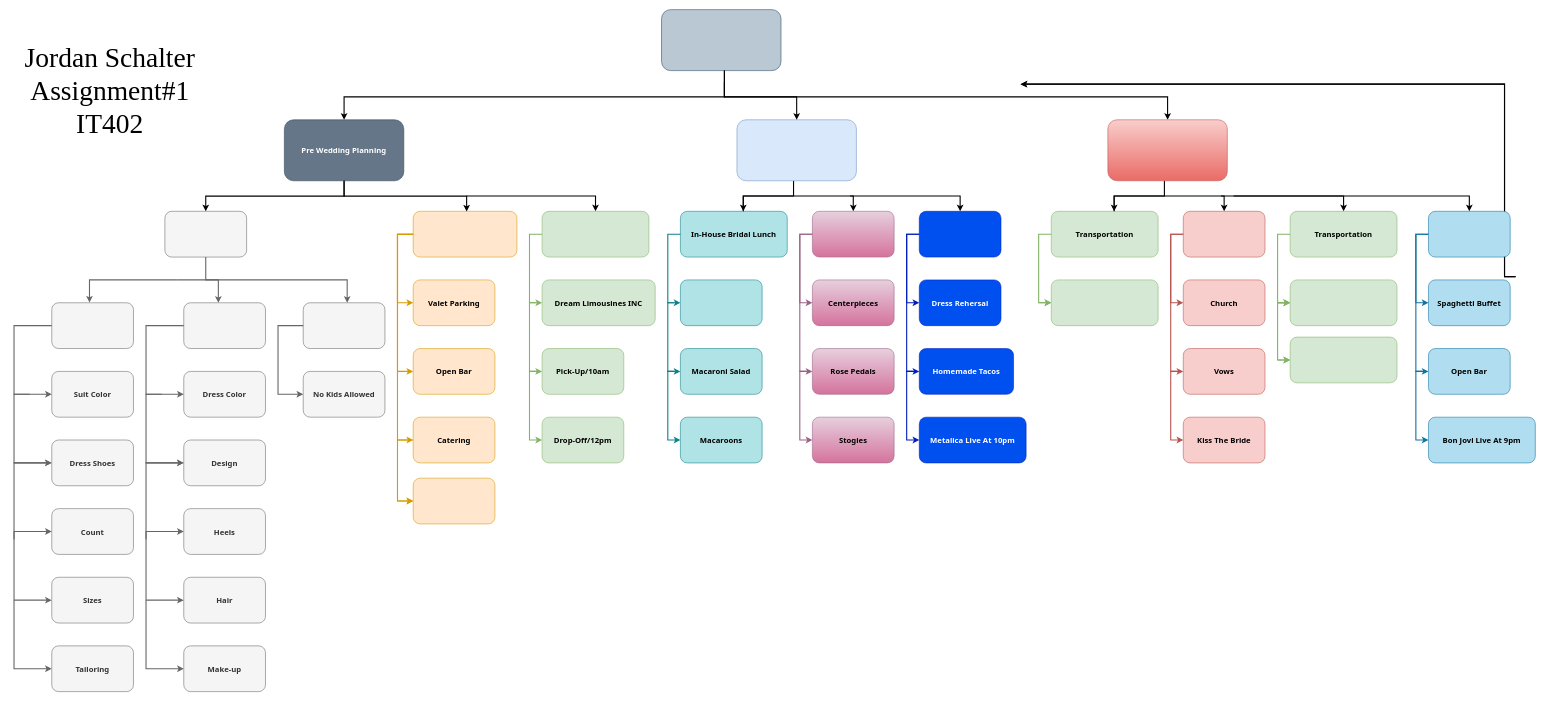
This 1547x701 diagram has some shape labels left out. Each missing label, with the centre of its shape:
Ceremony: the point at 1224,234
Children: the point at 344,325
Day Before Wedding: the point at 796,150
Decorations: the point at 853,234
Drop-Off At Ceremony: the point at 1104,302
Drop-Off At Reception: the point at 1343,360
Fruit Trays: the point at 721,302
Guest Accomedations: the point at 465,234
Live Bands: the point at 454,501
Men: the point at 92,325
Pick-Up At Ceremony: the point at 1343,302
Reception: the point at 1469,234
Rehearsal Dinner: the point at 960,234
Wedding: the point at 721,40
Wedding Attire: the point at 205,234
Wedding Day: the point at 1167,150
Wedding Day Transportation: the point at 595,234
Women: the point at 224,325
